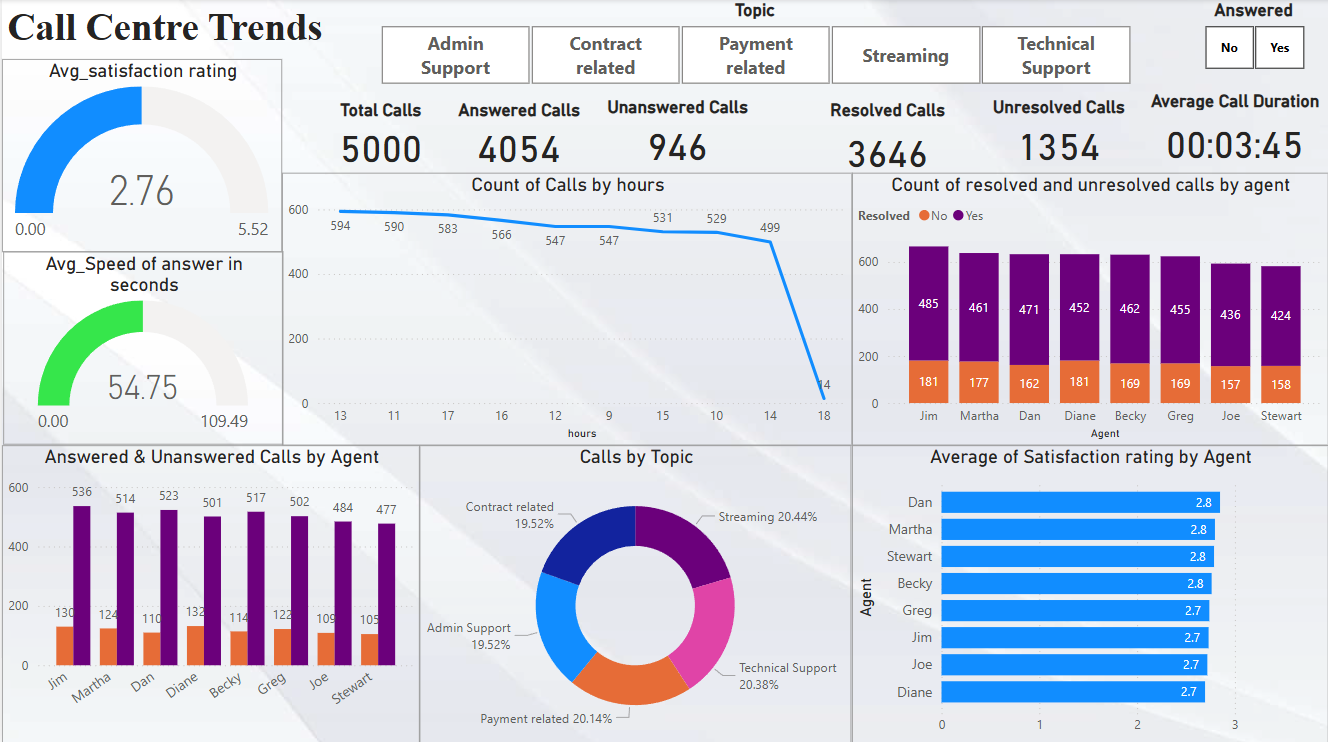

The page's visual inventory and layout, read from the dashboard file:
{"tool":"powerbi","page":{"name":"Page 1","canvas":[1280,720],"ordinal":0},"visuals":[{"type":"gauge","title":"Avg_satisfaction rating","fields":{"Y":["Sheet1.Satisfaction rating"]},"box":[0,57.6,270.3,186.6],"z":0},{"type":"gauge","title":"Avg_Speed of answer in seconds","fields":{"Y":["Sheet1.Speed of answer in seconds"]},"box":[1.4,244.3,270.3,186.6],"z":1000},{"type":"lineChart","title":"Count of Calls by hours","fields":{"Category":["Sheet1.Custom"],"Y":["Sheet1.Call Id"]},"box":[270.3,167.4,550.3,263.5],"z":2000},{"type":"card","title":"Answered Calls","fields":{"Values":["Sheet1.count of answered"]},"box":[422.6,96.1,153.7,71.4],"z":3000},{"type":"card","title":"Unanswered Calls","fields":{"Values":["Sheet1.count of unanswered"]},"box":[576.3,94.7,150.9,71.4],"z":4000},{"type":"card","title":"Resolved Calls","fields":{"Values":["Sheet1.Count of resolved"]},"box":[769.8,96.1,170.2,79.6],"z":5000},{"type":"card","title":"Unresolved Calls","fields":{"Values":["Sheet1.count of unresolved"]},"box":[940,94.7,160.5,71.4],"z":6000},{"type":"clusteredBarChart","fields":{"Category":["Sheet1.Agent"],"Y":["Sheet1.Satisfaction rating"]},"box":[820.6,430.9,459.7,289.5],"z":7000},{"type":"donutChart","title":"Calls by Topic","fields":{"Category":["Sheet1.Topic"],"Y":["Sheet1.Call Id"]},"box":[403.4,430.9,417.2,289.5],"z":8000},{"type":"columnChart","title":"Count of resolved and unresolved calls by agent","fields":{"Category":["Sheet1.Agent"],"Series":["Sheet1.Resolved"],"Y":["Sheet1.Resolved"]},"box":[820.6,167.4,459.7,263.5],"z":9000},{"type":"clusteredColumnChart","title":"Answered & Unanswered Calls by Agent","fields":{"Series":["Sheet1.Answered (Y/N)"],"Category":["Sheet1.Agent"],"Y":["Sheet1.Answered (Y/N)"]},"box":[0,430.9,403.4,289.5],"z":10000},{"type":"card","title":"Average Call Duration","fields":{"Values":["Sheet1.Avg_Talk_in_minutes"]},"box":[1100.5,87.8,179.8,79.6],"z":11000},{"type":"slicer","title":"Topic","fields":{"Values":["Sheet1.Topic"]},"box":[340.3,0,772.6,87.8],"z":12000},{"type":"slicer","title":"Answered","fields":{"Values":["Sheet1.Answered (Y/N)"]},"box":[1134.8,0,145.5,74.1],"z":13000},{"type":"card","title":"Total Calls","fields":{"Values":["Sheet1.Call Id"]},"box":[270.3,96.1,190.7,71.4],"z":14000},{"type":"textbox","box":[0,0,326.6,57.6],"z":14001}]}

Visuals, with their boxes in screenshot pixels (x1, y1, x2, y2), scaled from the page's 1280x720 canvas onto the 1328x742 screenshot:
"Avg_satisfaction rating" gauge: 0,59,280,252
"Avg_Speed of answer in seconds" gauge: 1,252,282,444
"Count of Calls by hours" lineChart: 280,173,851,444
"Answered Calls" card: 438,99,598,173
"Unanswered Calls" card: 598,98,754,171
"Resolved Calls" card: 799,99,975,181
"Unresolved Calls" card: 975,98,1142,171
clusteredBarChart - Sheet1.Agent x Sheet1.Satisfaction rating: 851,444,1327,741
"Calls by Topic" donutChart: 419,444,851,741
"Count of resolved and unresolved calls by agent" columnChart: 851,173,1327,444
"Answered & Unanswered Calls by Agent" clusteredColumnChart: 0,444,419,741
"Average Call Duration" card: 1142,90,1327,173
"Topic" slicer: 353,0,1155,90
"Answered" slicer: 1177,0,1327,76
"Total Calls" card: 280,99,478,173
textbox: 0,0,339,59
